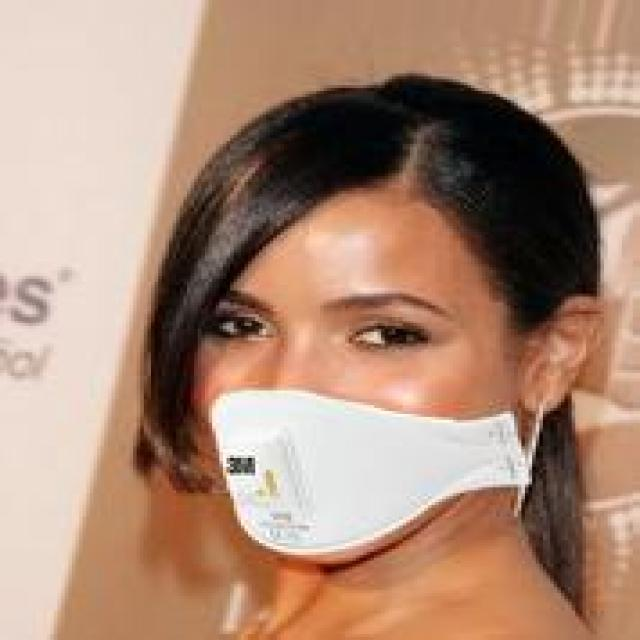mask: (108, 41, 611, 602)
